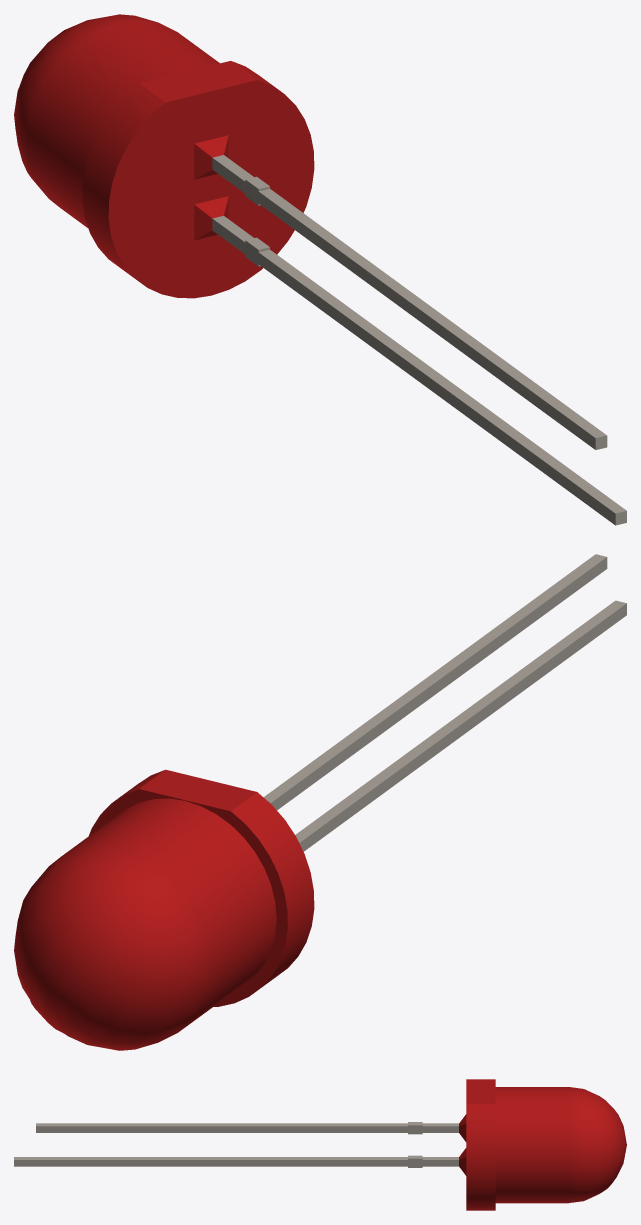
Rendered from LED.glb.
3 renders of one model, top to bottom at view 1: azimuth 30°, elevation 25°; view 2: azimuth 150°, elevation 25°; view 3: azimuth 270°, elevation 25°, orthographic. The views are drawn at different scales.
Visible parts, largest first — view 1: User Library-BL-L813_R; view 2: User Library-BL-L813_R; view 3: User Library-BL-L813_R.
Boxes of the visible parts, <box> form: User Library-BL-L813_R: <box>14,14,626,525</box>; User Library-BL-L813_R: <box>14,554,626,1050</box>; User Library-BL-L813_R: <box>14,1079,626,1210</box>.
Bounding box in the file's own units: 0.00898 × 0.00853 × 0.042.
